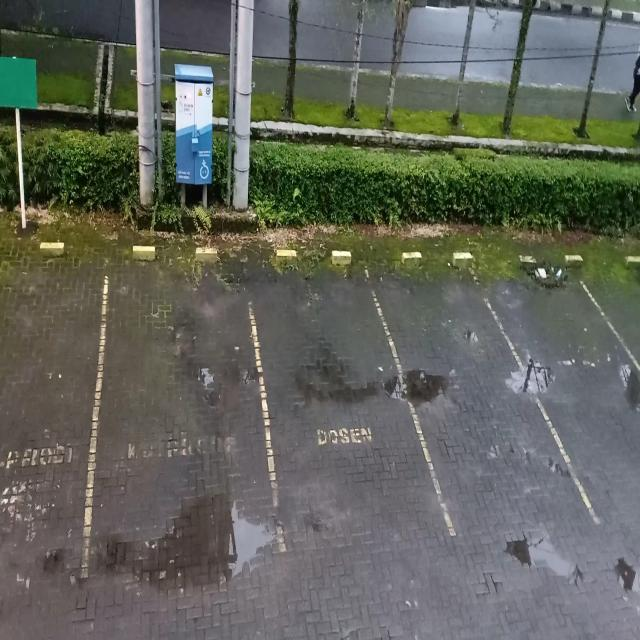empty: (91, 239, 265, 579), (257, 248, 405, 554), (401, 245, 526, 546), (522, 252, 640, 520)
